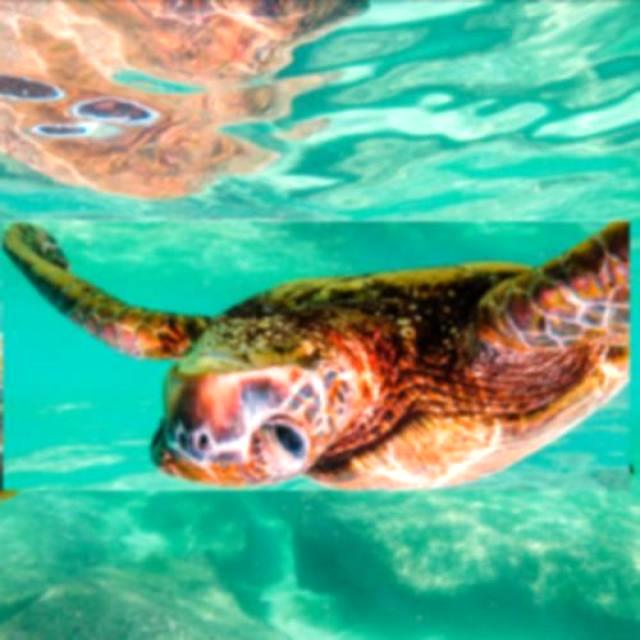Sea turtle: (1, 219, 631, 492)
